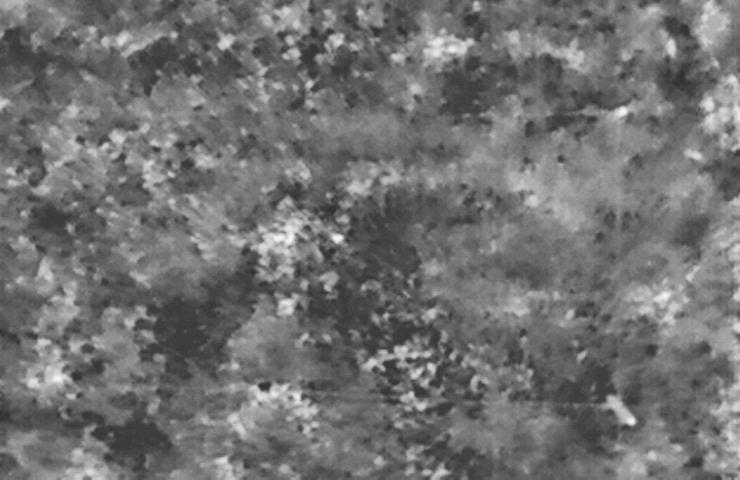landmines: (249, 203, 337, 281)
